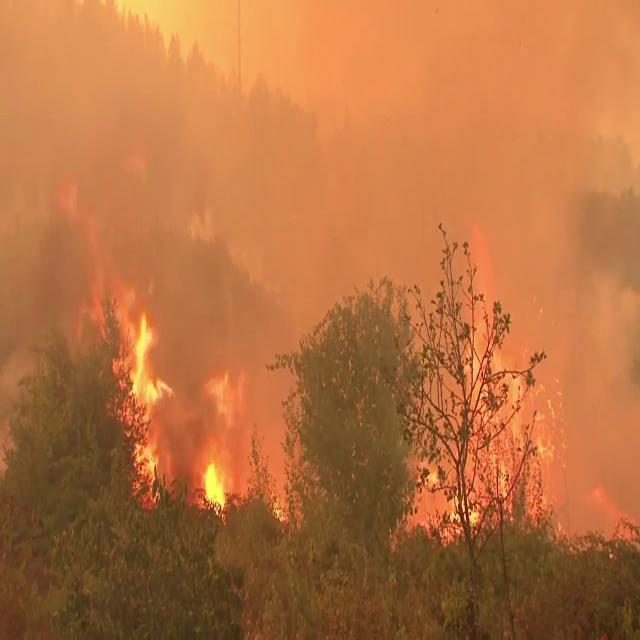Fire: (399, 282, 575, 541), (192, 356, 300, 520), (104, 290, 174, 504)
Smoke: (0, 0, 313, 470), (396, 0, 640, 542), (546, 4, 640, 546)
